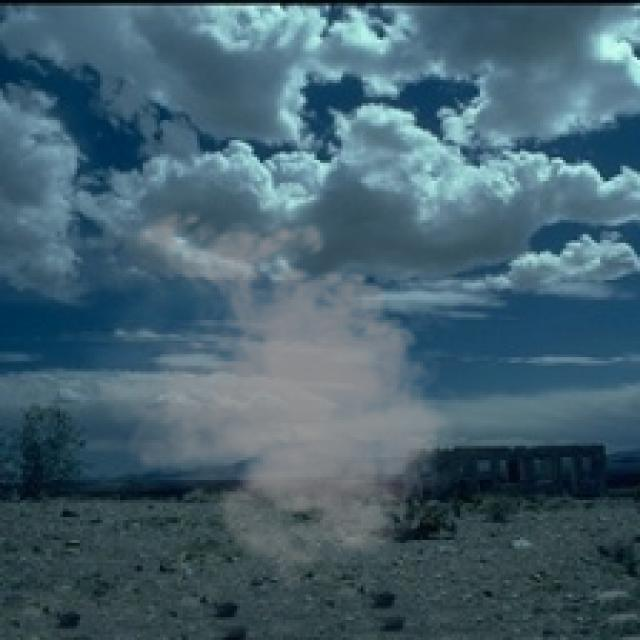Smoke: (71, 199, 468, 592)
